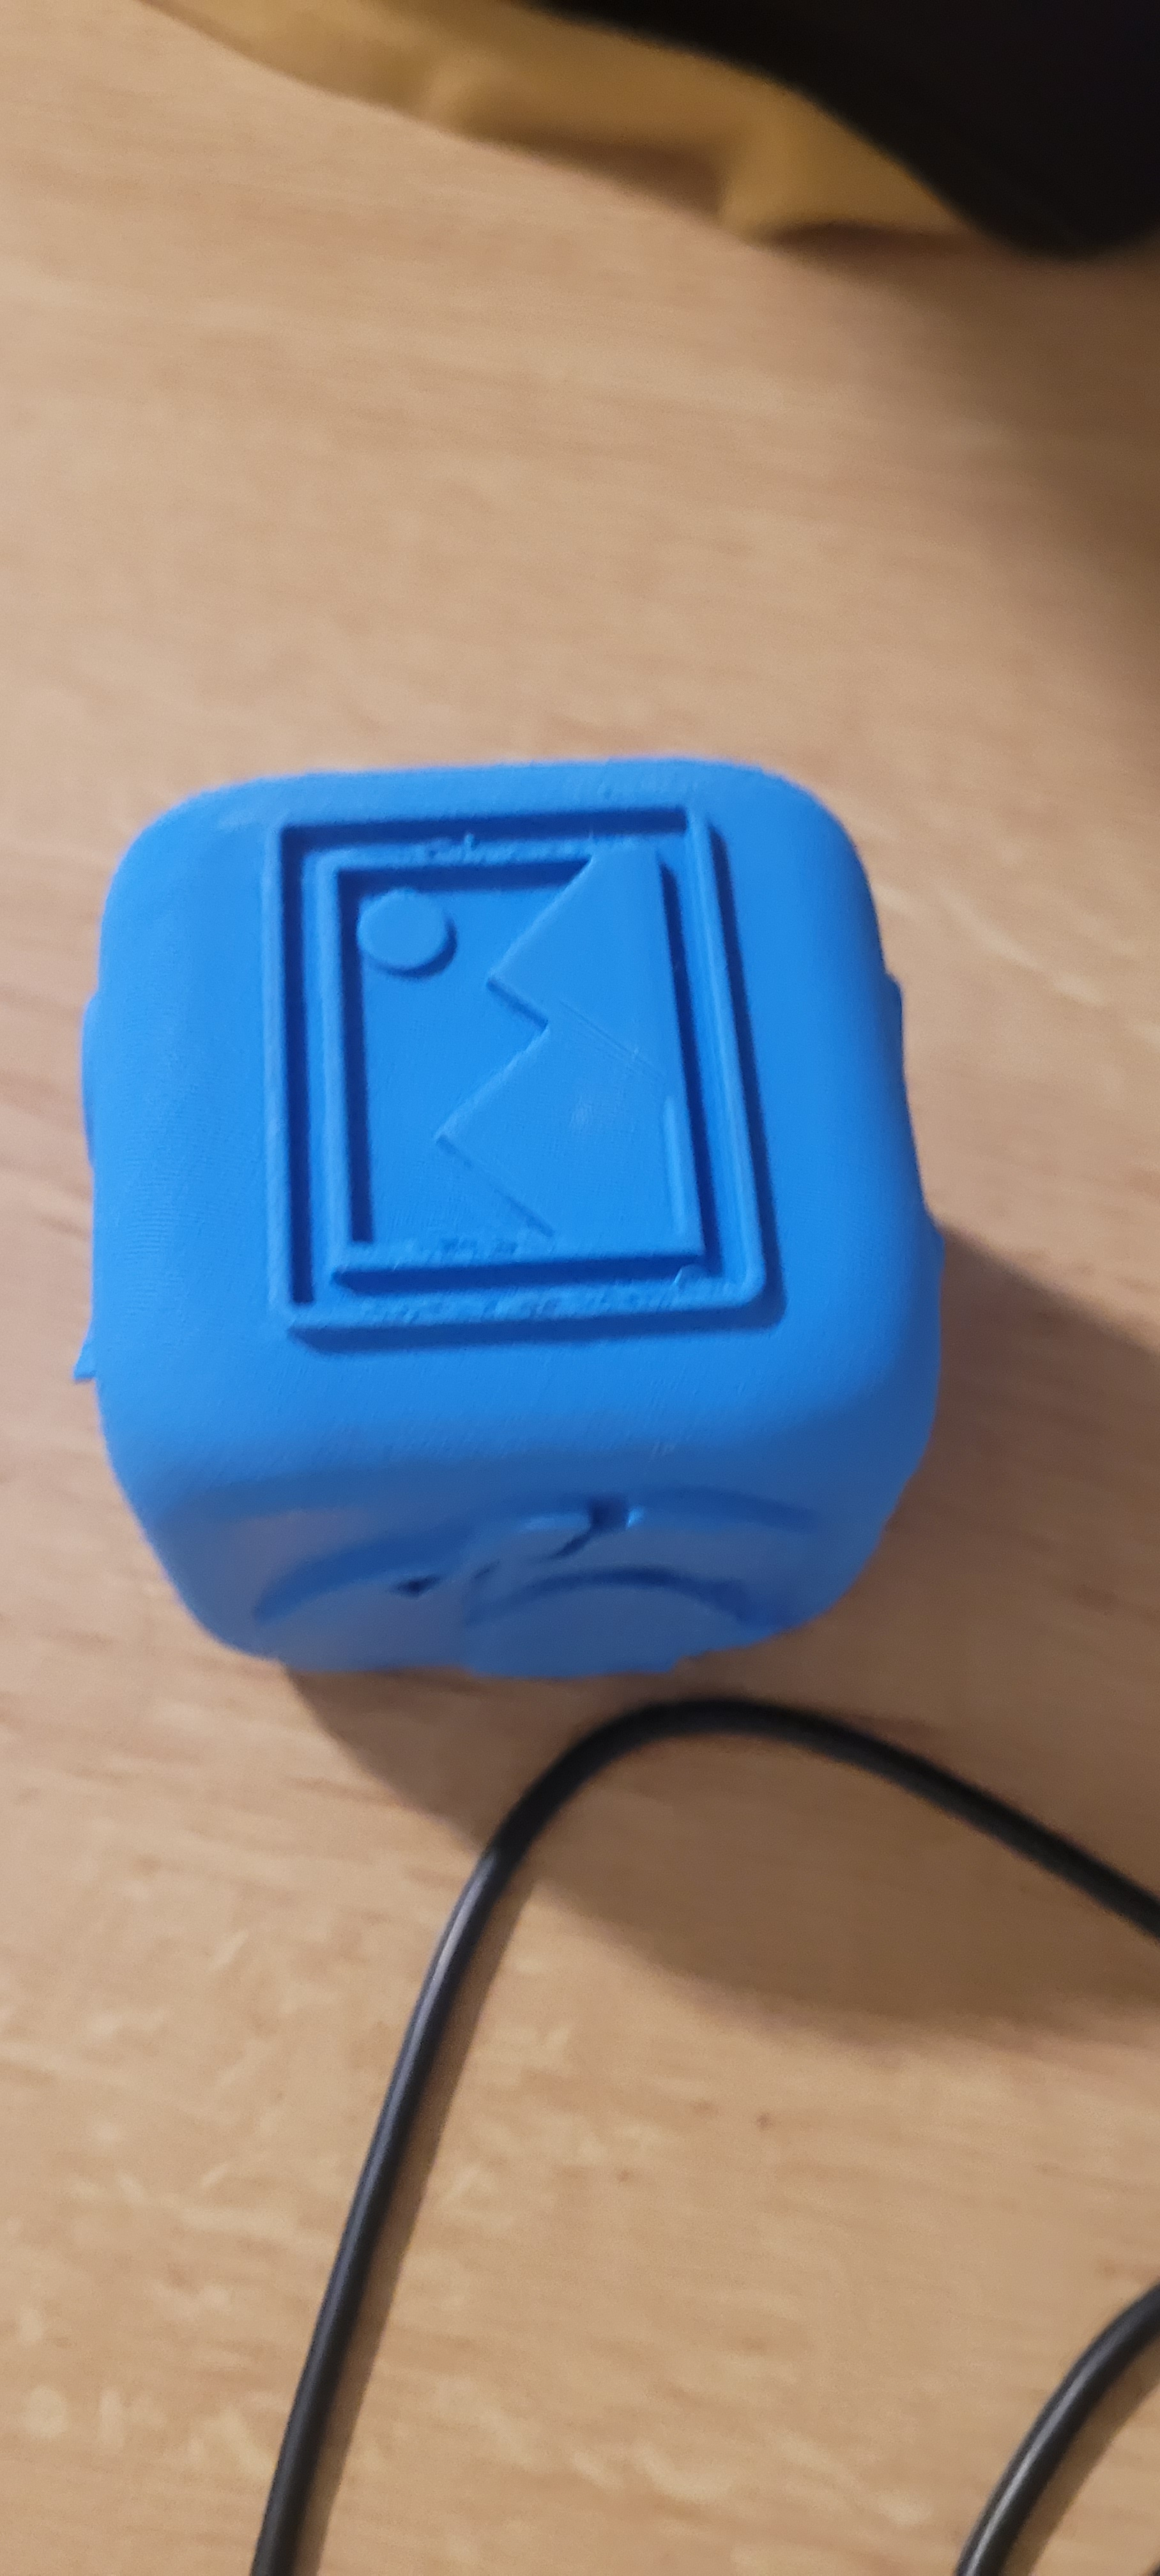Story: (204, 802, 815, 1304)
